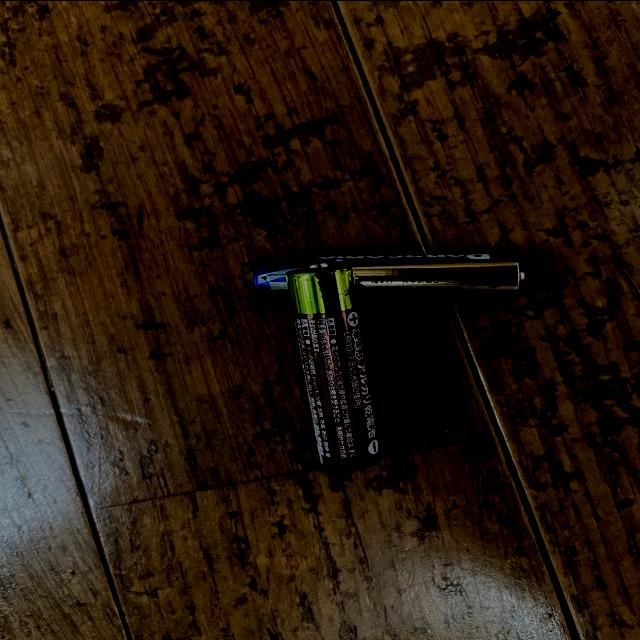AA: (282, 249, 394, 480)
AAA: (242, 244, 534, 306)
